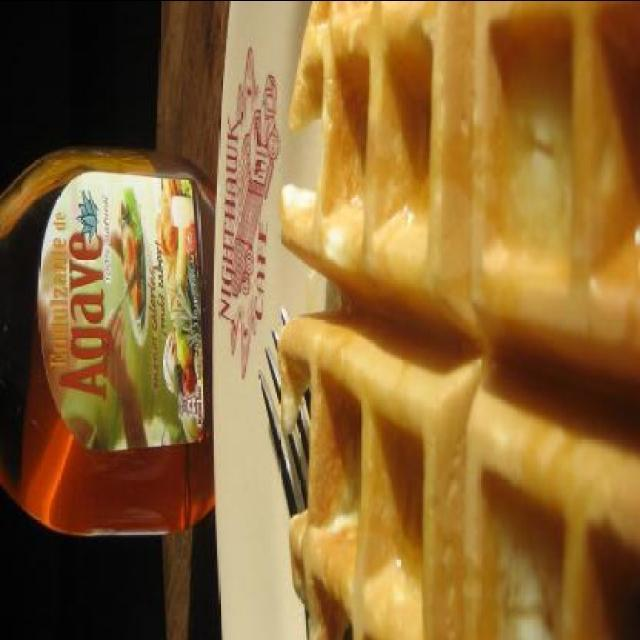Waffle: (275, 2, 639, 640)
